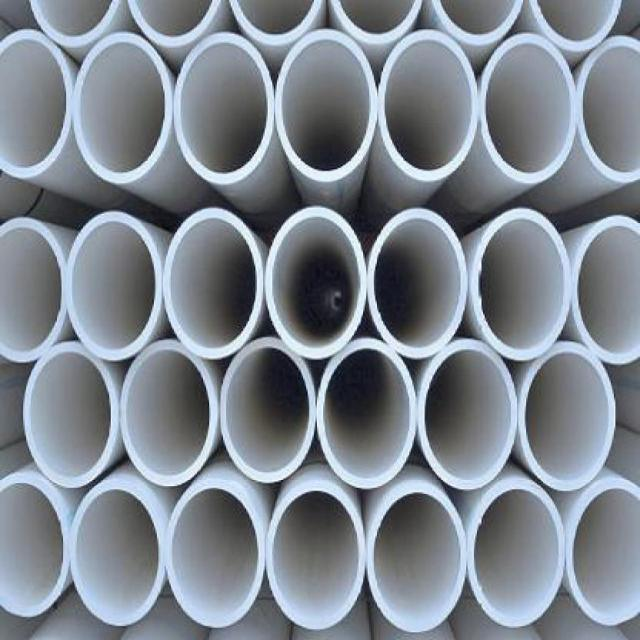pipe: (275, 28, 377, 182), (266, 205, 366, 359), (164, 206, 264, 359), (368, 207, 468, 360), (472, 208, 572, 361), (379, 29, 479, 182), (174, 32, 274, 185), (72, 32, 172, 184), (318, 338, 417, 491), (418, 340, 518, 490), (266, 480, 365, 630), (166, 480, 265, 628), (480, 34, 577, 184), (368, 486, 466, 634), (518, 344, 617, 490), (66, 211, 163, 360), (23, 340, 119, 490), (120, 341, 217, 489), (470, 480, 567, 628), (220, 338, 317, 484), (70, 481, 166, 626), (565, 477, 639, 628), (0, 28, 72, 179), (0, 472, 72, 618), (571, 213, 639, 365), (0, 218, 68, 363), (577, 33, 640, 185), (529, 0, 622, 54), (228, 0, 325, 48), (128, 0, 221, 48), (328, 0, 423, 46), (428, 0, 523, 44), (29, 2, 120, 47)
